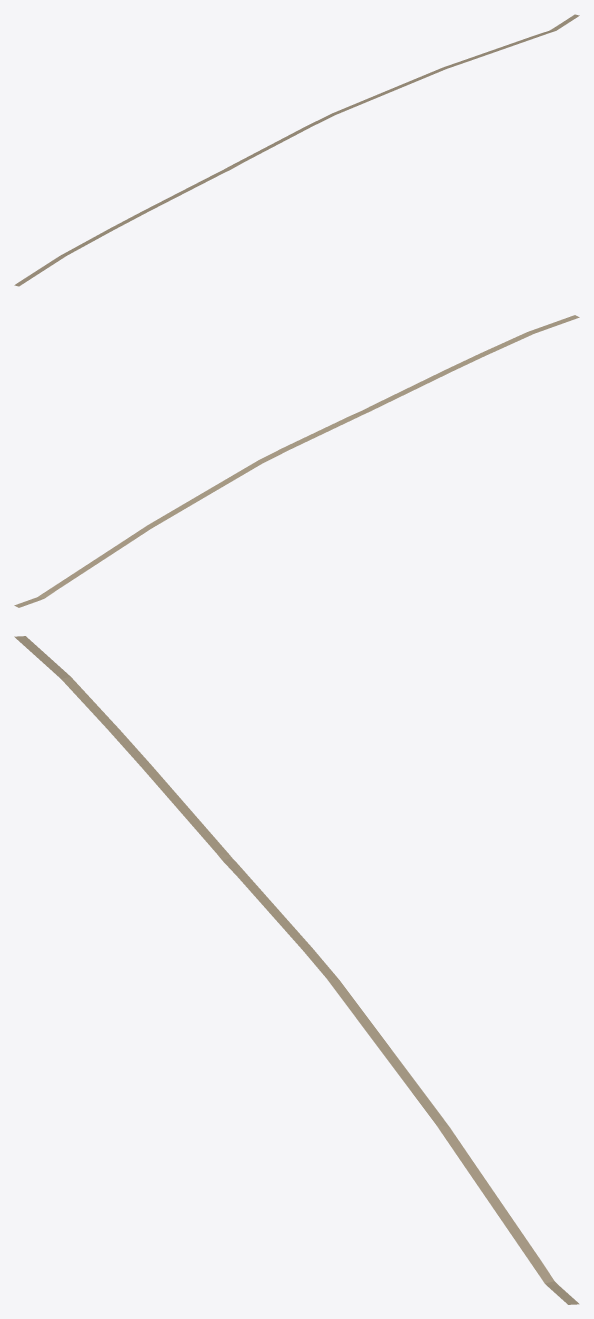
The model's file is farm_-32_-22_track.glb.
3 views of the same model, one above another, from view 1: azimuth 30°, elevation 25°; view 2: azimuth 210°, elevation 25°; view 3: azimuth 270°, elevation 25° (orthographic). The views are drawn at different scales.
Parts seen in each view (by area): view 1: geometry_0; view 2: geometry_0; view 3: geometry_0.
Boxes of the visible parts, left/top/right/bottom form: geometry_0: left=14, top=14, right=579, bottom=286; geometry_0: left=14, top=315, right=579, bottom=607; geometry_0: left=14, top=636, right=579, bottom=1304.
Size of the model in its own units: 405 by 14.78 by 149.
